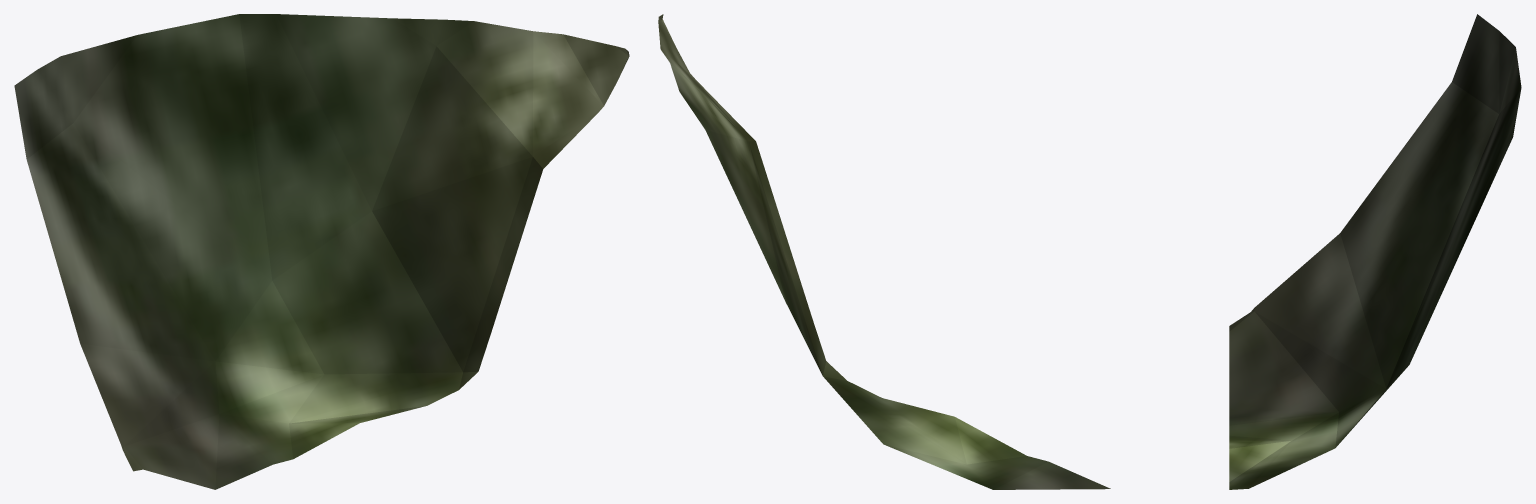
3 renders of one model, left to right at view 1: azimuth 30°, elevation 25°; view 2: azimuth 150°, elevation 25°; view 3: azimuth 270°, elevation 25°, orthographic. The views are drawn at different scales.
Size of the model in its own units: 0.83 by 0.5389 by 0.4049.
Materials: 1 (1 with a texture image).
